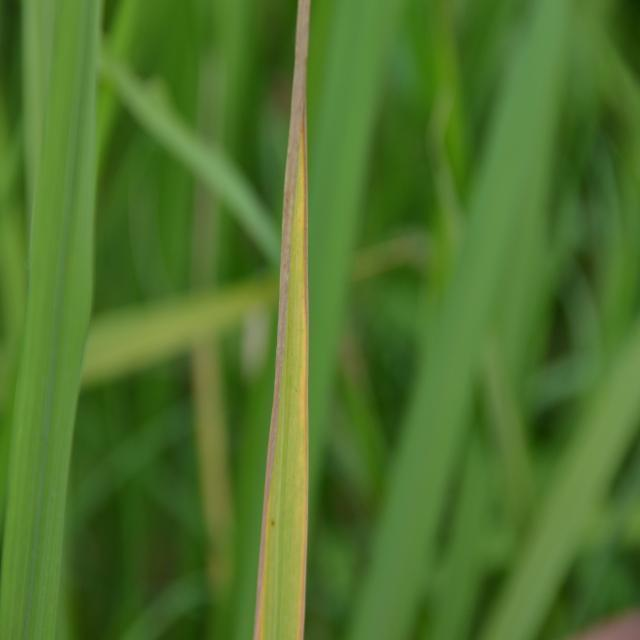Rice Tungro: (225, 37, 337, 640)
